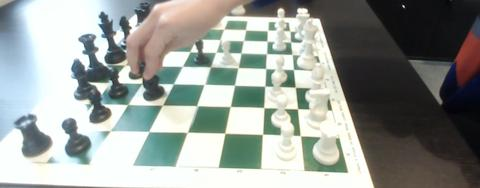xcorner: (202, 84, 209, 91), (263, 86, 270, 93), (265, 28, 272, 35), (75, 129, 82, 135), (150, 131, 157, 137), (187, 132, 194, 138), (299, 135, 305, 142), (128, 104, 135, 110), (229, 107, 236, 113), (110, 82, 117, 88), (172, 83, 178, 90), (233, 85, 239, 92), (294, 87, 300, 94), (208, 66, 214, 73), (236, 67, 242, 74), (264, 68, 270, 75), (187, 50, 193, 57), (213, 51, 219, 58), (239, 52, 245, 59), (264, 53, 271, 59), (290, 54, 297, 60), (144, 36, 151, 42), (168, 37, 175, 43), (217, 38, 223, 45), (175, 26, 182, 32), (198, 26, 204, 33), (220, 27, 227, 33), (113, 130, 119, 136), (225, 133, 231, 139), (262, 134, 268, 140), (95, 103, 101, 109), (162, 105, 168, 111), (196, 106, 202, 112), (263, 108, 269, 114), (296, 109, 302, 115), (141, 83, 147, 89), (124, 64, 130, 70), (152, 65, 158, 71), (180, 66, 186, 72), (292, 69, 298, 75), (135, 49, 141, 55), (161, 50, 167, 56), (193, 38, 199, 44), (241, 39, 247, 45), (265, 40, 271, 46), (289, 41, 295, 47), (153, 25, 159, 31), (243, 28, 249, 34), (288, 29, 294, 35)
